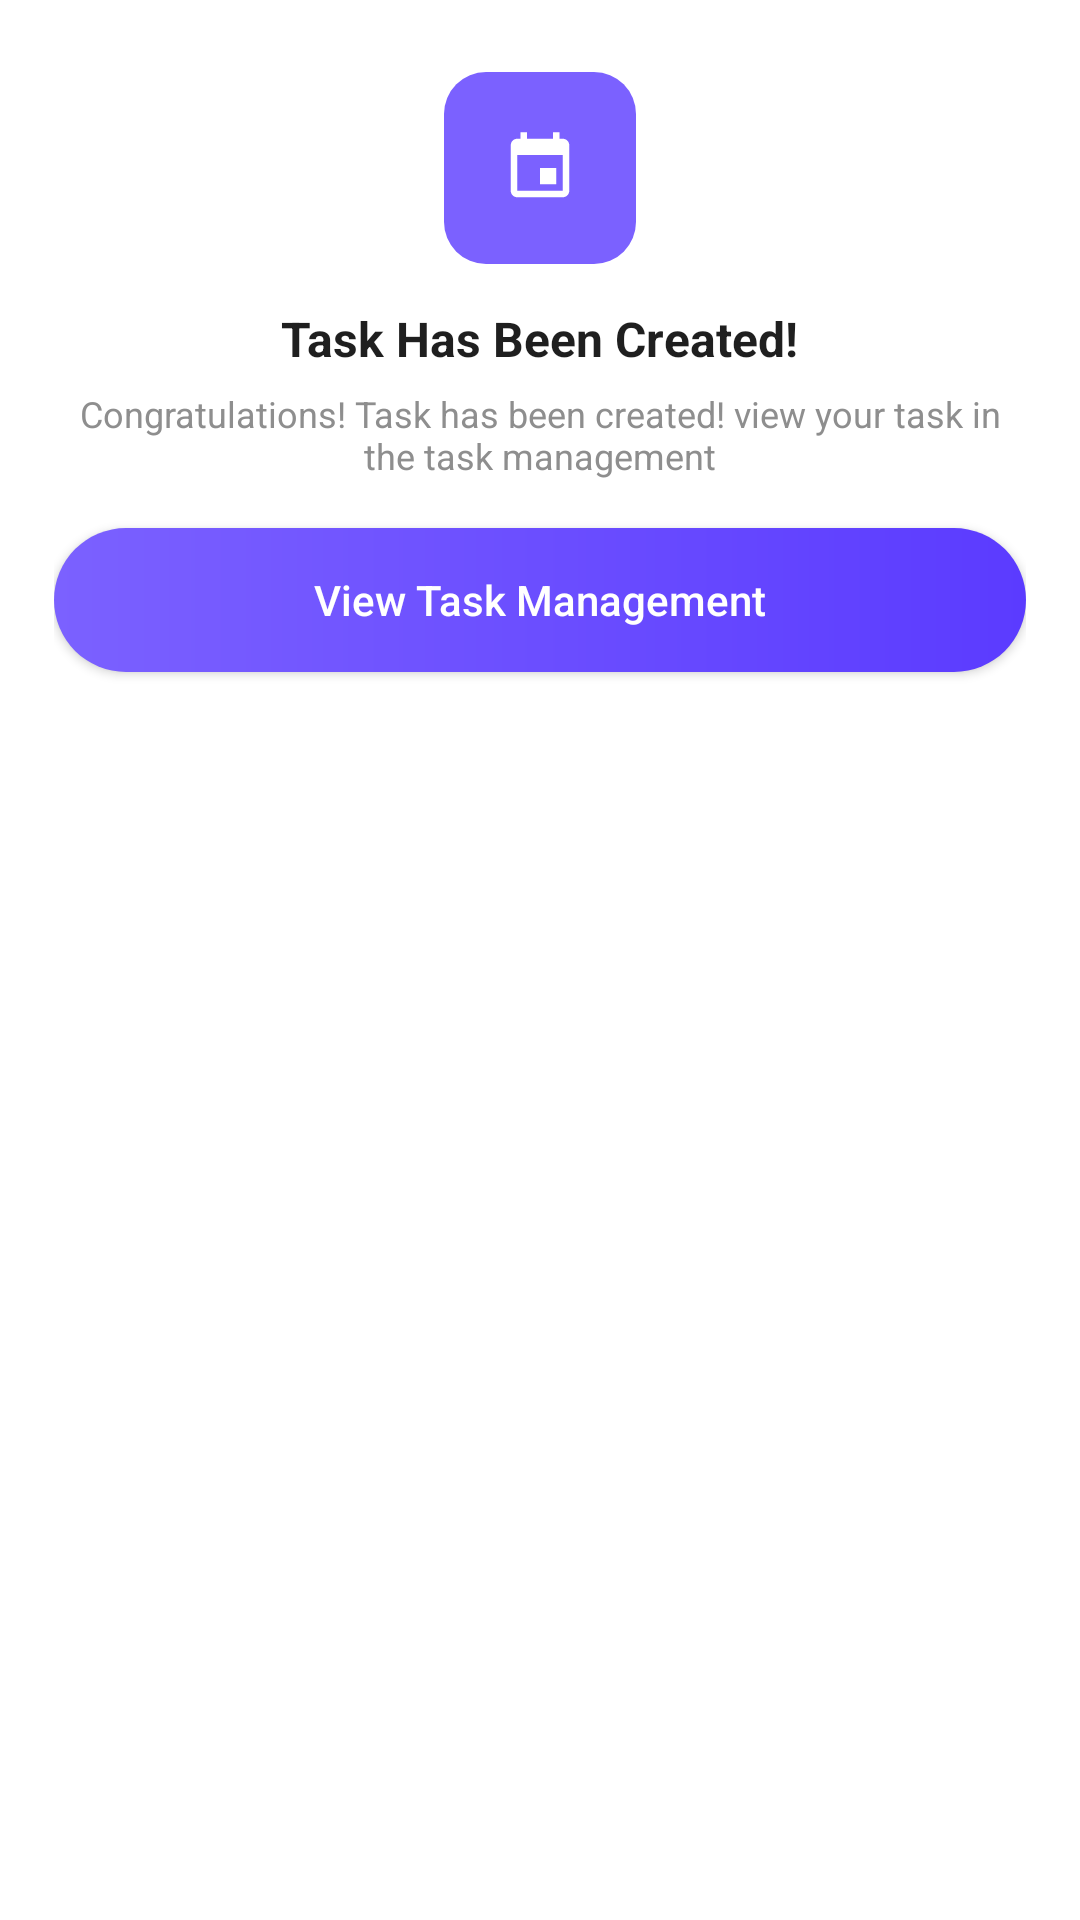

Named icons in this screenshot (1080*1920) and their centers, (x=x, y=y):
calendar: (x=540, y=165)
